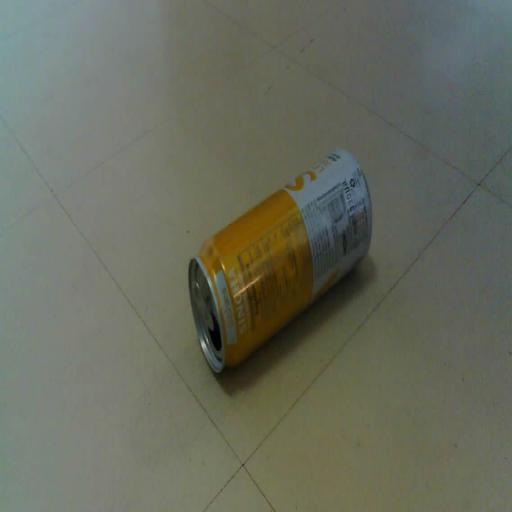canned: (175, 132, 381, 406)
